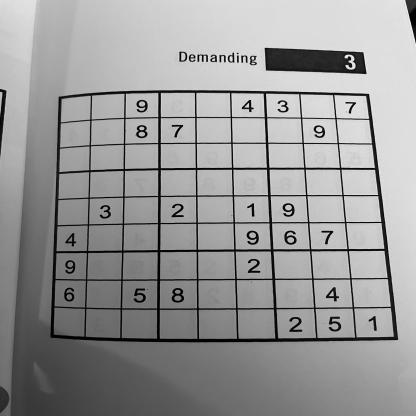sudoku: (44, 86, 403, 347)
